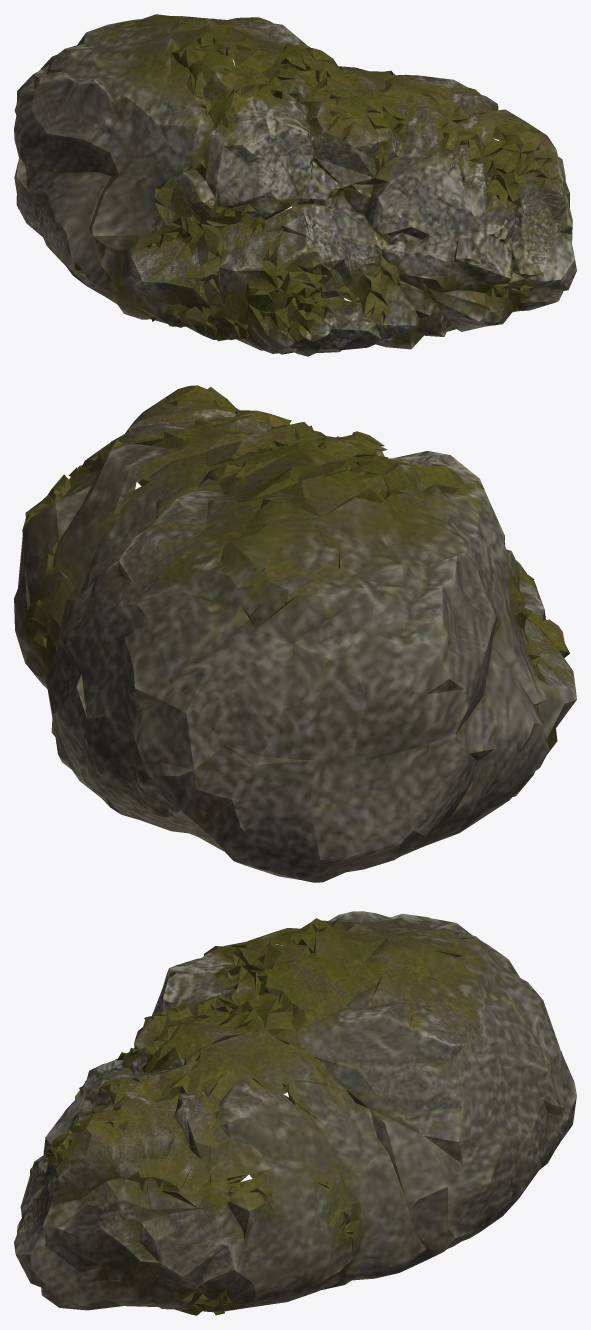
Rendered from p_rock.glb.
3 renders of one model, top to bottom at view 1: azimuth 30°, elevation 25°; view 2: azimuth 150°, elevation 25°; view 3: azimuth 270°, elevation 25°, orthographic. The views are drawn at different scales.
Parts seen in each view (by area): view 1: output_unwrapped; view 2: output_unwrapped; view 3: output_unwrapped.
Part boxes in pixels (x1,y1,x2,y2): output_unwrapped: [14, 14, 576, 356]; output_unwrapped: [14, 385, 576, 882]; output_unwrapped: [14, 911, 576, 1315].
Bounding box in the file's own units: 1.83 × 1.05 × 1.9.
Materials: 1 (1 with a texture image).
